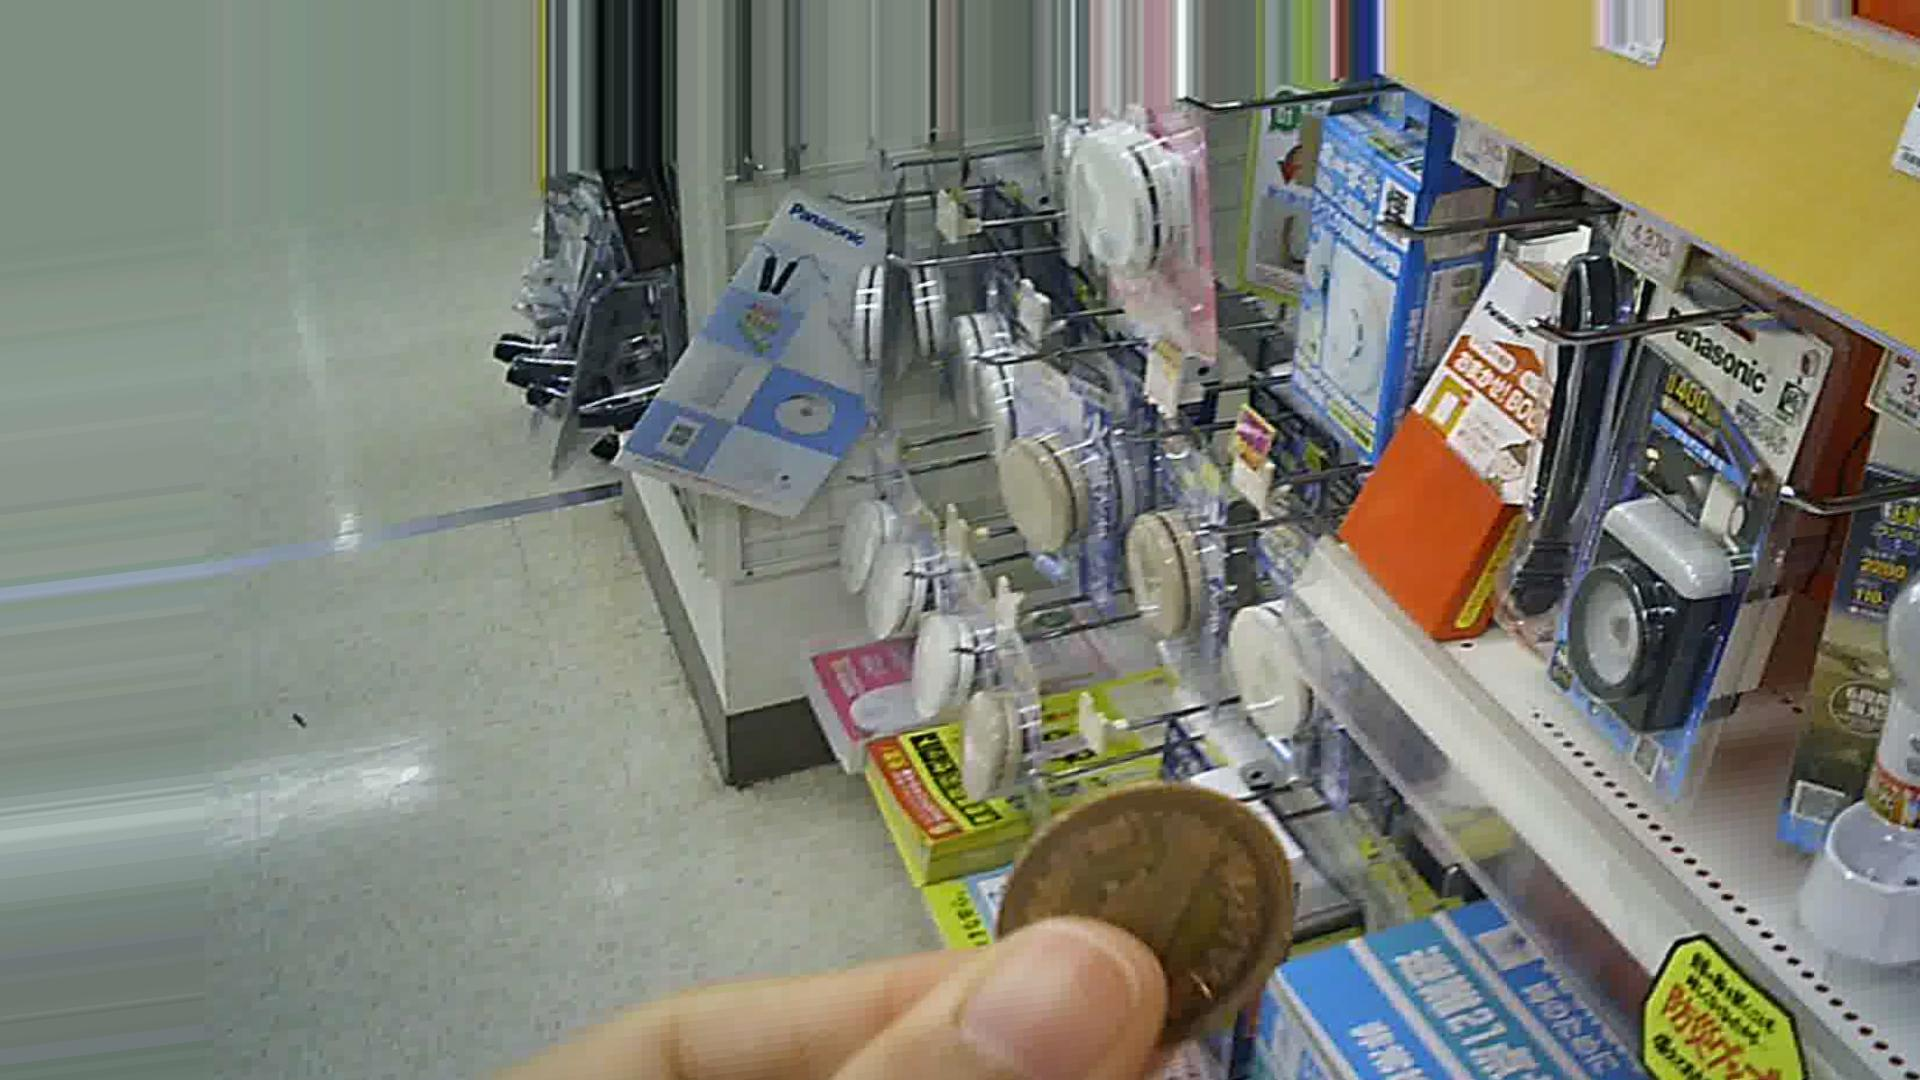10 Yen: (973, 764, 1317, 1029)
